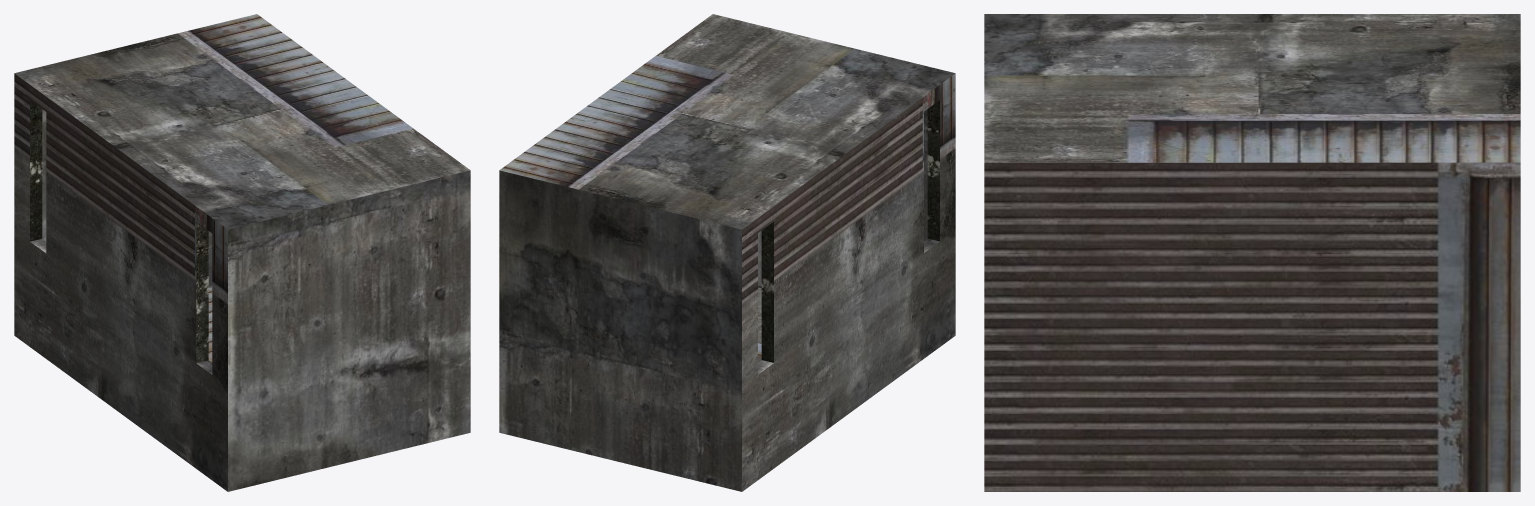
The picture shows the model from 3 angles, left to right: view 1: azimuth 30°, elevation 25°; view 2: azimuth 150°, elevation 25°; view 3: azimuth 270°, elevation 25°; orthographic projection. The views are drawn at different scales.
Parts seen in each view (by area): view 1: Cube.069; view 2: Cube.069; view 3: Cube.069.
Part boxes in pixels (x1,y1,x2,y2): Cube.069: (14,14,470,491); Cube.069: (499,14,955,491); Cube.069: (984,14,1520,491).
Bounding box in the file's own units: 1.25 × 1.29 × 1.9.
1 material, 1 textured.
